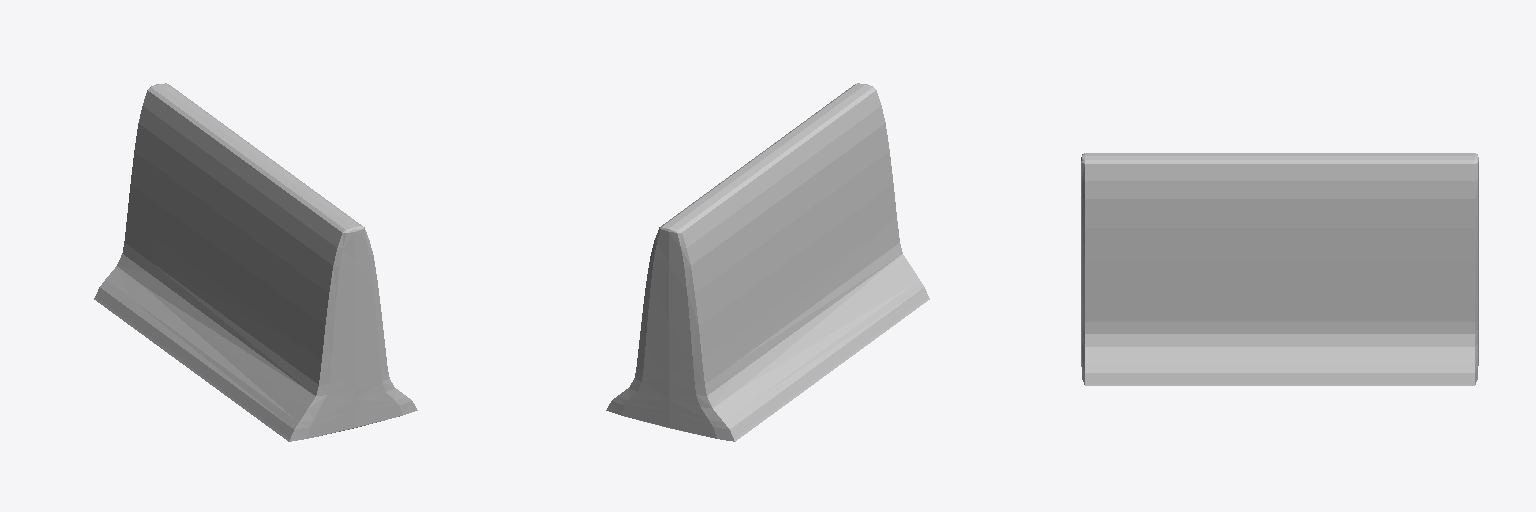
File: sd_prop_stonewall.obj
3 renders of one model, left to right at view 1: azimuth 30°, elevation 25°; view 2: azimuth 150°, elevation 25°; view 3: azimuth 270°, elevation 25°, orthographic.
Parts seen in each view (by area): view 1: pCube1; view 2: pCube1; view 3: pCube1.
Boxes of the visible parts, x1=… form: pCube1: x1=94, y1=83, x2=417, y2=441; pCube1: x1=606, y1=83, x2=929, y2=441; pCube1: x1=1081, y1=153, x2=1478, y2=385.
Size of the model in its own units: 1.87 by 2.78 by 5.